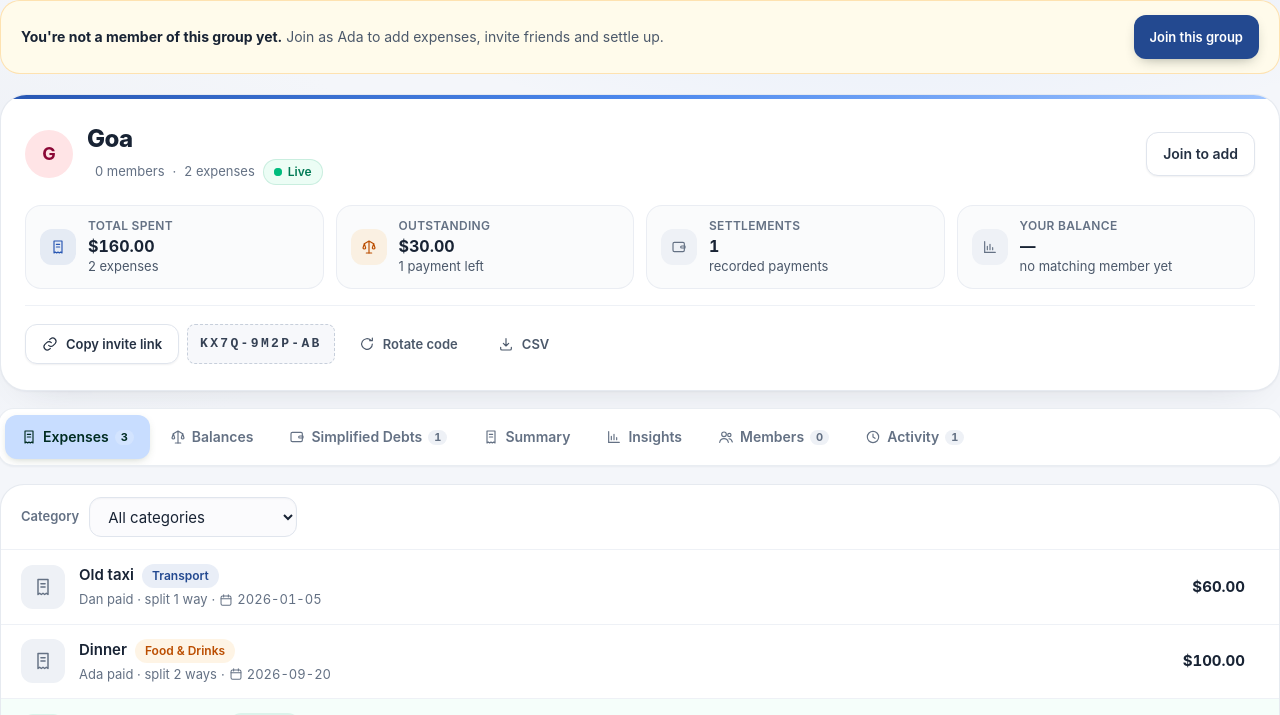
Test case: GroupPage edge paths › falls back to execCommand when clipboard write fails
Step 1. Click the button "Copy invite link" → (102, 344), box 25,324 -> 179,364
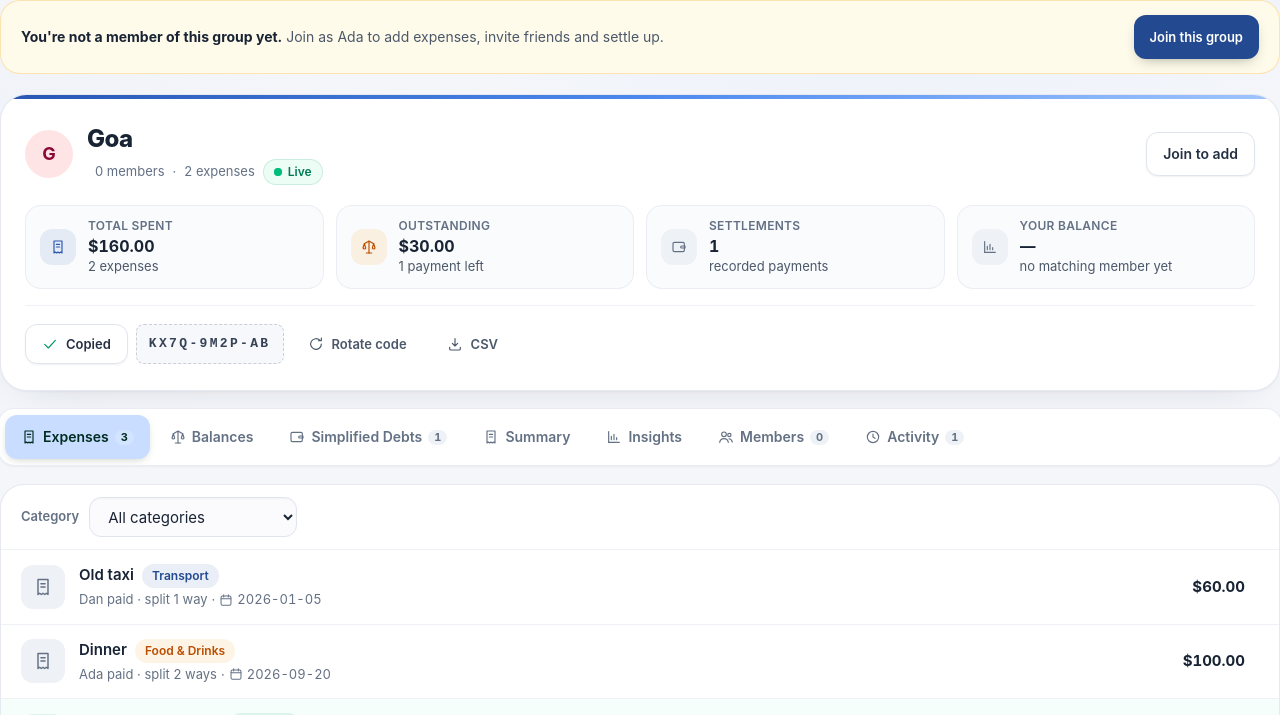
Now the button "Copied" is shown, box 25,324 -> 128,364
